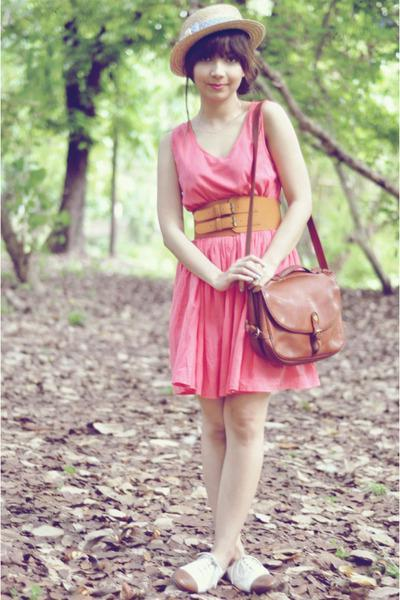dress: (162, 91, 322, 403)
